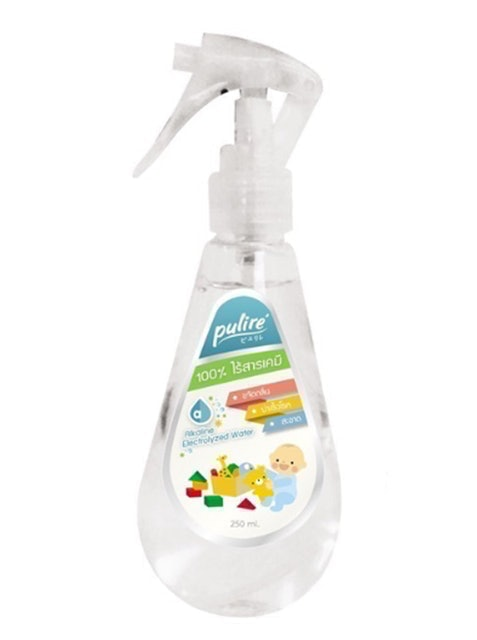Cleaning_solution: (123, 26, 355, 622)
